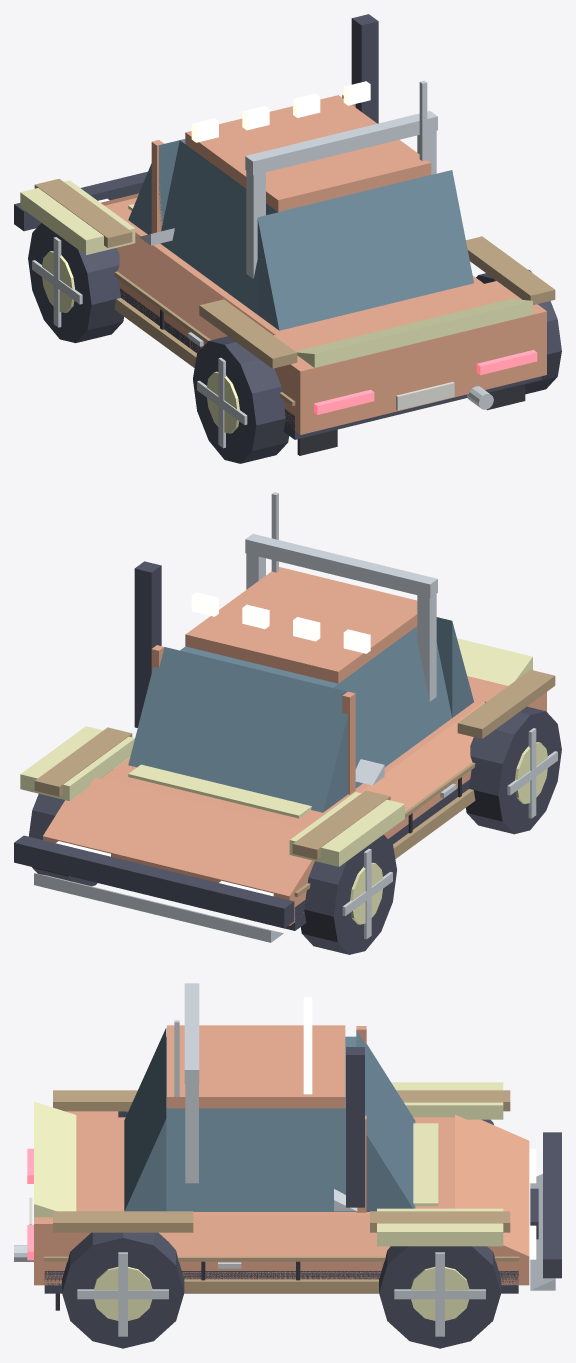
Rendered from redclay_runner.glb.
The picture shows the model from 3 angles, top to bottom: view 1: azimuth 30°, elevation 25°; view 2: azimuth 150°, elevation 25°; view 3: azimuth 270°, elevation 25°; orthographic projection. The views are drawn at different scales.
Visible parts, largest first — view 1: RearWindow.172, Tail.072, Roof.272, CabinSideL.069, Wheel_RL.232, Body.272, Wheel_FL.232, Ducktail.053, ShoulderL.069, RollBar.065, Fender-1.065, Arch-1True.148 (+27 smaller); view 2: Windshield.172, Nose.069, Roof.272, CabinSideL.069, BashBar.065, Wheel_RL.232, Wheel_FL.232, ShoulderL.069, RollBar.065, Snorkel.019, Bumper.268, BodyUpper.069 (+22 smaller); view 3: CabinSideR.069, Roof.272, Wheel_RR.232, ShoulderR.069, Nose.069, Wheel_FR.232, Windshield.172, RearWindow.172, Tail.072, Body.272, Ducktail.053, Fender1.065 (+22 smaller).
Part boxes in pixels (box(x1,y1,x2,y2)): RearWindow.172: box(257, 170, 473, 330); Tail.072: box(274, 281, 546, 405); Roof.272: box(185, 95, 431, 211); CabinSideL.069: box(160, 140, 277, 314); Wheel_RL.232: box(193, 336, 289, 463); Body.272: box(118, 279, 546, 434); Wheel_FL.232: box(28, 223, 123, 343); Ducktail.053: box(295, 298, 532, 367); ShoulderL.069: box(117, 232, 275, 339); RollBar.065: box(245, 111, 437, 175); Fender-1.065: box(20, 180, 135, 254); Arch-1True.148: box(199, 299, 297, 368); Windshield.172: box(128, 647, 347, 812); Nose.069: box(43, 777, 314, 896); Roof.272: box(185, 567, 417, 683); CabinSideL.069: box(333, 626, 451, 788); BashBar.065: box(14, 835, 294, 928); Wheel_RL.232: box(466, 706, 561, 834); Wheel_FL.232: box(300, 834, 396, 954); ShoulderL.069: box(360, 701, 484, 811); RollBar.065: box(245, 534, 437, 598); Snorkel.019: box(134, 561, 161, 727); Bumper.268: box(34, 873, 283, 942); BodyUpper.069: box(101, 699, 483, 828); CabinSideR.069: box(166, 1108, 356, 1211); Roof.272: box(167, 1025, 345, 1108); Wheel_RR.232: box(62, 1232, 184, 1348); ShoulderR.069: box(159, 1215, 390, 1256); Nose.069: box(455, 1114, 529, 1256); Wheel_FR.232: box(379, 1246, 501, 1348); Windshield.172: box(356, 1030, 415, 1211); RearWindow.172: box(124, 1028, 166, 1211); Tail.072: box(34, 1111, 118, 1256); Body.272: box(34, 1256, 529, 1285); Ducktail.053: box(34, 1101, 76, 1217); Fender1.065: box(377, 1208, 503, 1246).
Bounding box in the file's own units: 3.36 × 3.04 × 5.2.
